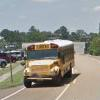Bus: (17, 33, 77, 88)
